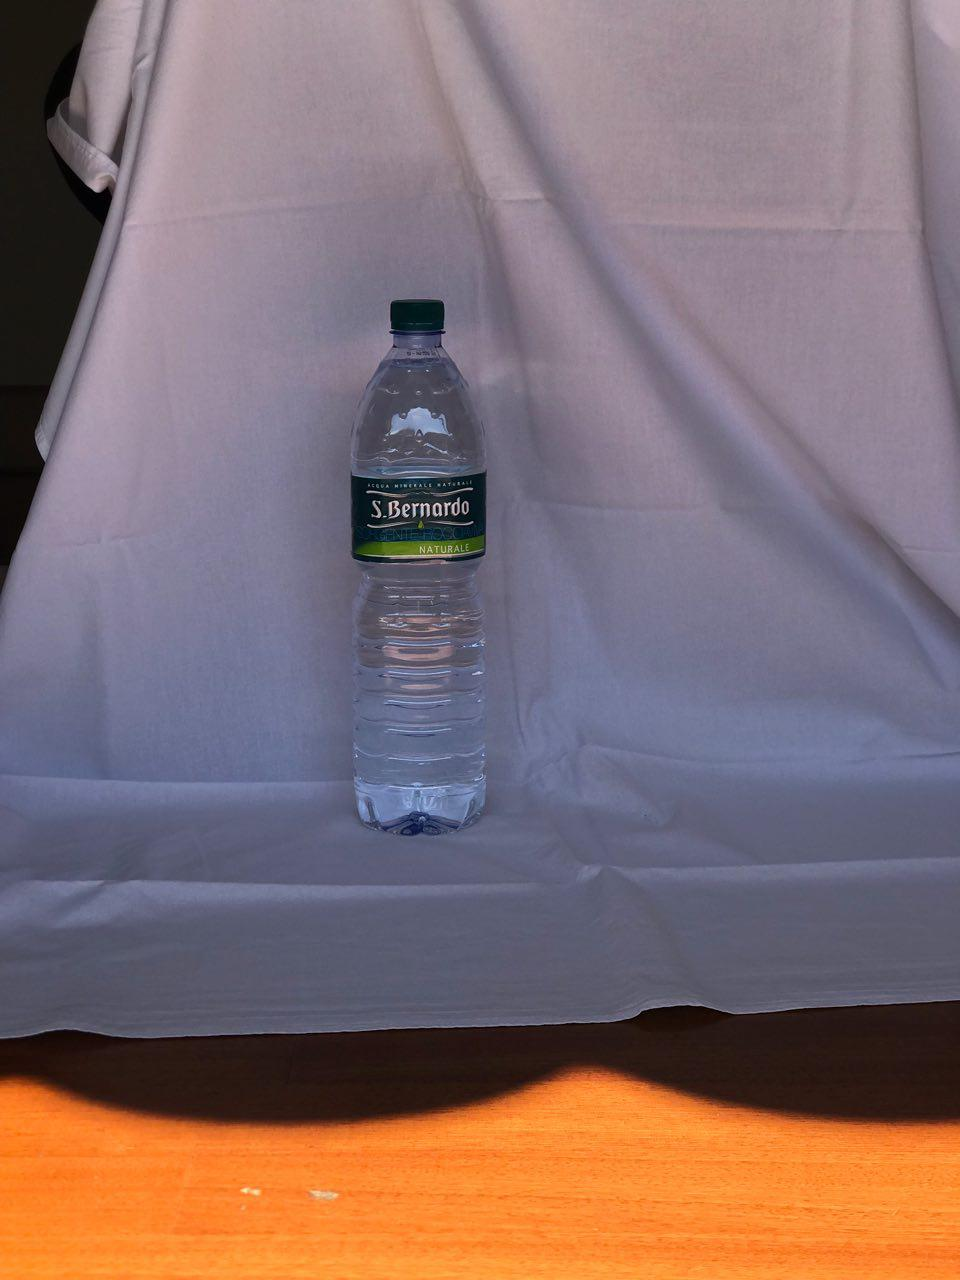san_bernardo: (346, 295, 489, 836)
